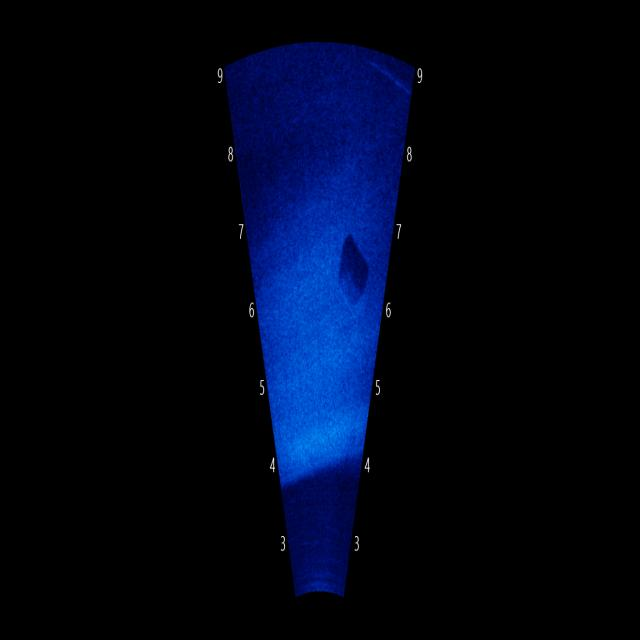square: (330, 224, 376, 318)
